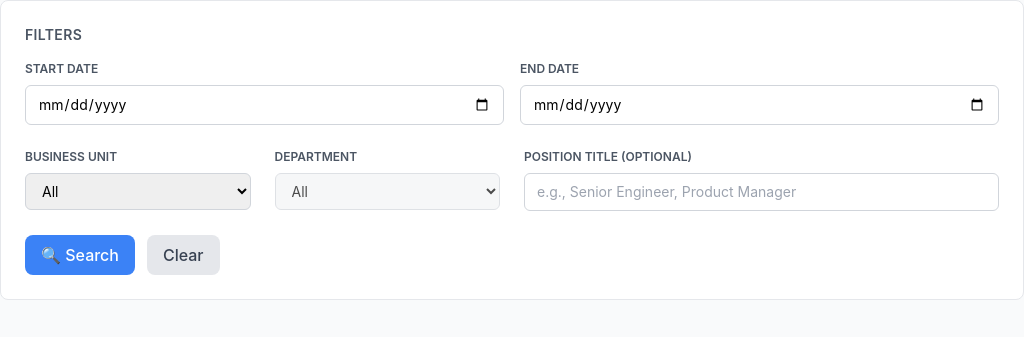
it: HistoricalTabQueryForm › Clear Button › should clear validation errors when clear button is clicked
# Try to submit with missing dates
Click the button "🔍 Search": click(80, 255) 25,235 -> 135,275
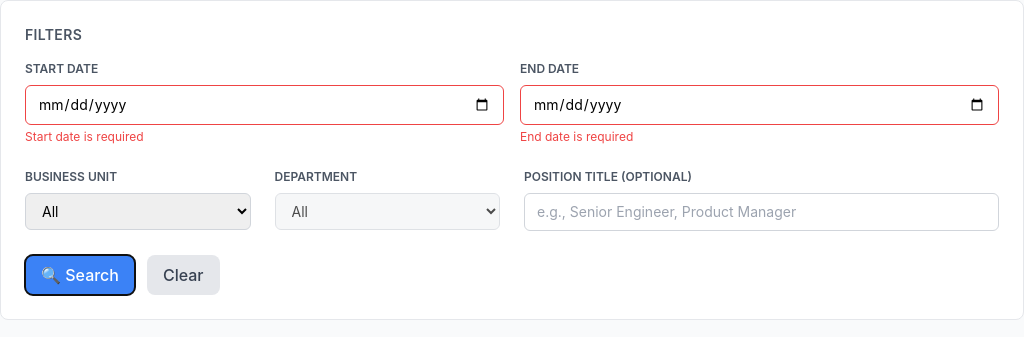
Result: the text "Start date is required" is shown at 25,129 -> 144,144
# Clear the form
Click the button "Clear": click(183, 275) 147,255 -> 220,295
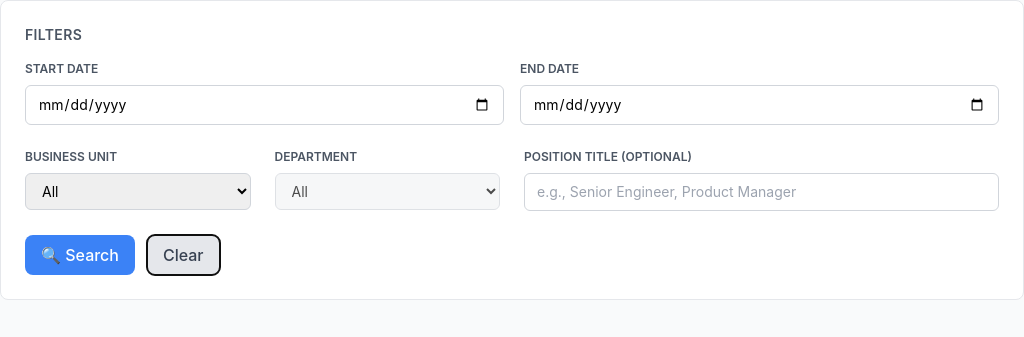
Result: the text "Start date is required" is gone
